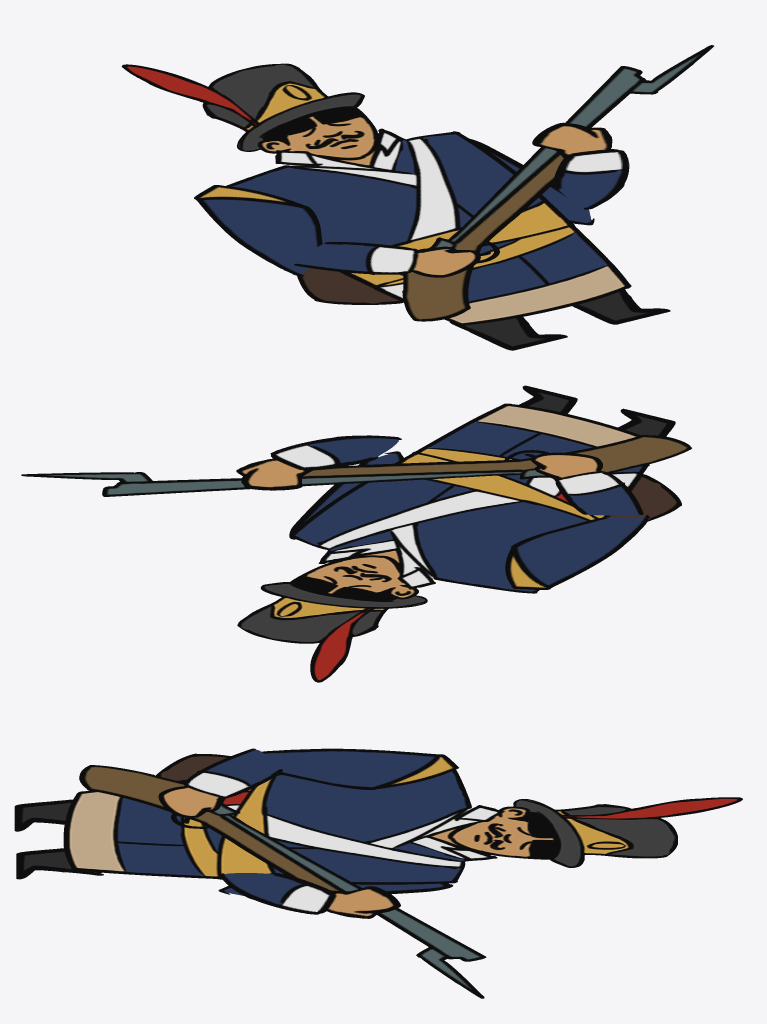
File: musketman.fbx
3 renders of one model, top to bottom at view 1: azimuth 30°, elevation 25°; view 2: azimuth 150°, elevation 25°; view 3: azimuth 270°, elevation 25°, orthographic. The views are drawn at different scales.
Parts seen in each view (by area): view 1: Torso, Musket, Lupper, Rlower, Llower, Lfoot, Rfoot, Rupper; view 2: Torso, Musket, Lupper, Rlower, Llower, Rupper, Lfoot, Rfoot; view 3: Torso, Musket, Lupper, Rlower, Llower, Rfoot, Lfoot, Rupper.
Boxes of the visible parts, x1=… form: Torso: x1=121, y1=63, x2=631, y2=325; Musket: x1=402, y1=45, x2=713, y2=321; Lupper: x1=194, y1=185, x2=322, y2=276; Rlower: x1=532, y1=122, x2=629, y2=209; Llower: x1=294, y1=242, x2=480, y2=277; Lfoot: x1=449, y1=317, x2=567, y2=350; Rfoot: x1=572, y1=289, x2=670, y2=324; Rupper: x1=470, y1=139, x2=594, y2=225; Torso: x1=237, y1=403, x2=681, y2=682; Musket: x1=21, y1=434, x2=691, y2=496; Lupper: x1=505, y1=515, x2=649, y2=589; Rlower: x1=236, y1=435, x2=401, y2=490; Llower: x1=530, y1=452, x2=643, y2=515; Rupper: x1=289, y1=451, x2=403, y2=539; Lfoot: x1=618, y1=408, x2=675, y2=436; Rfoot: x1=519, y1=385, x2=577, y2=413; Torso: x1=63, y1=753, x2=742, y2=884; Musket: x1=79, y1=765, x2=486, y2=998; Lupper: x1=262, y1=748, x2=458, y2=789; Rlower: x1=219, y1=873, x2=400, y2=918; Llower: x1=158, y1=748, x2=282, y2=817; Rfoot: x1=16, y1=848, x2=103, y2=879; Lfoot: x1=14, y1=799, x2=72, y2=831; Rupper: x1=218, y1=883, x2=453, y2=895.
Bounding box in the file's own units: 15.83 × 0.4285 × 18.01.
